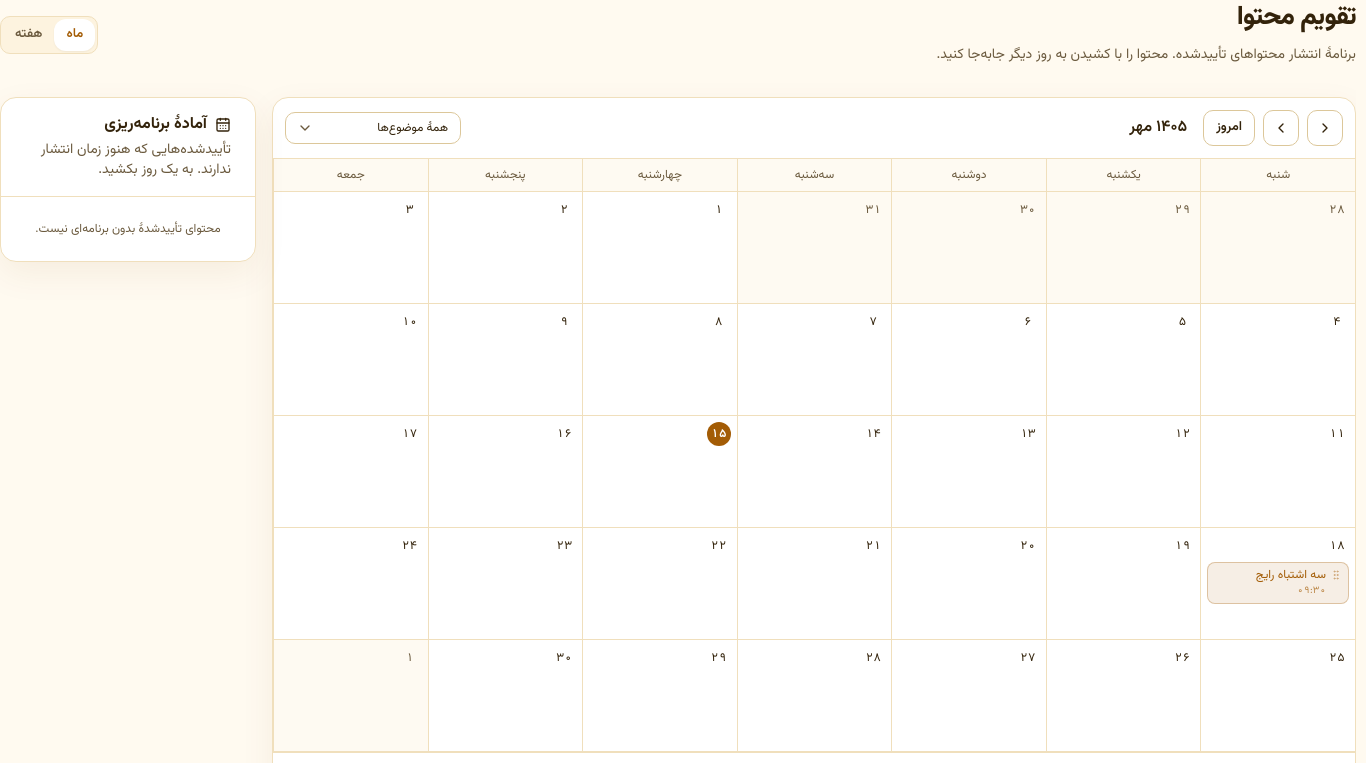
Test case: CalendarView › opens a content in a dialog with its schedule
The width and height of the screenshot is (1366, 763).
Click the button "سه اشتباه رایج ۰۹:۳۰": point(1278, 583) left=1207, top=562, right=1349, bottom=604
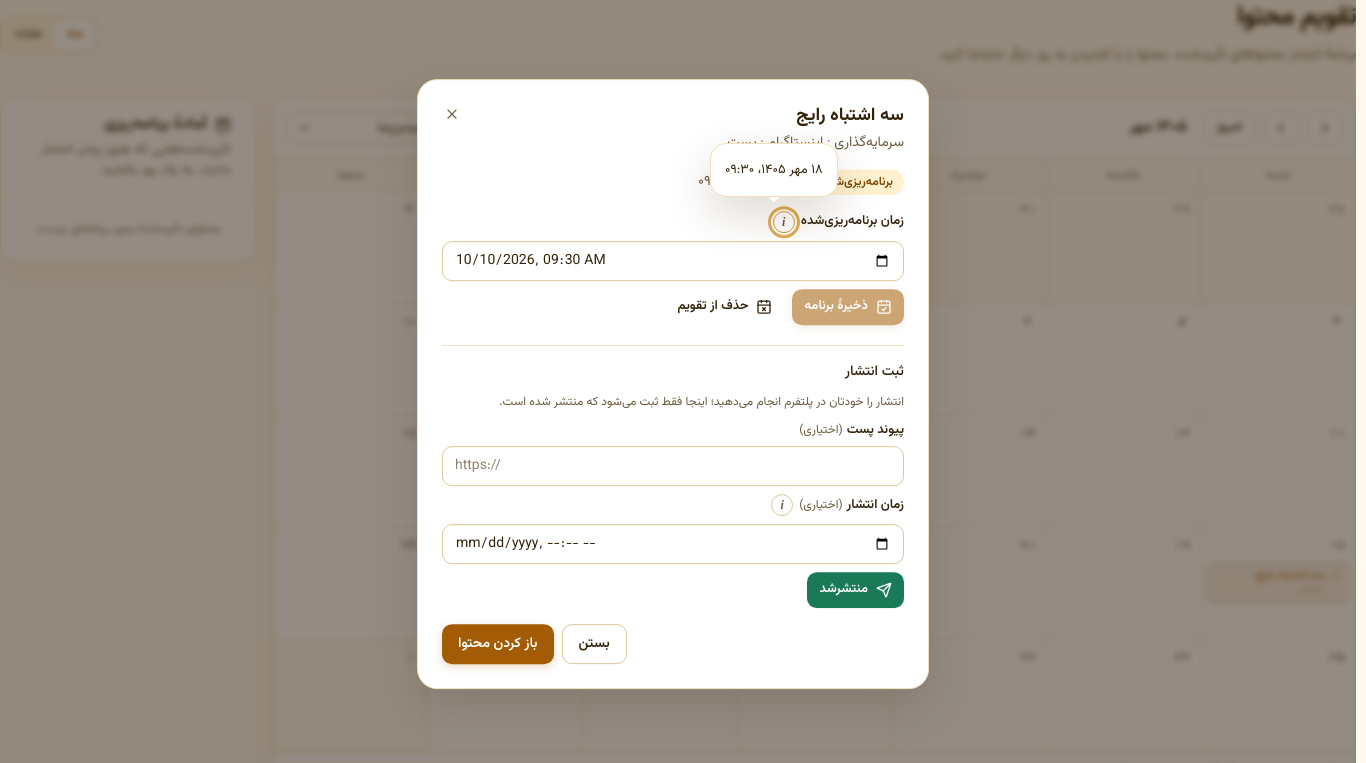
Now the field showing "2026-10-10T09:30" is shown, box left=442, top=241, right=904, bottom=281
